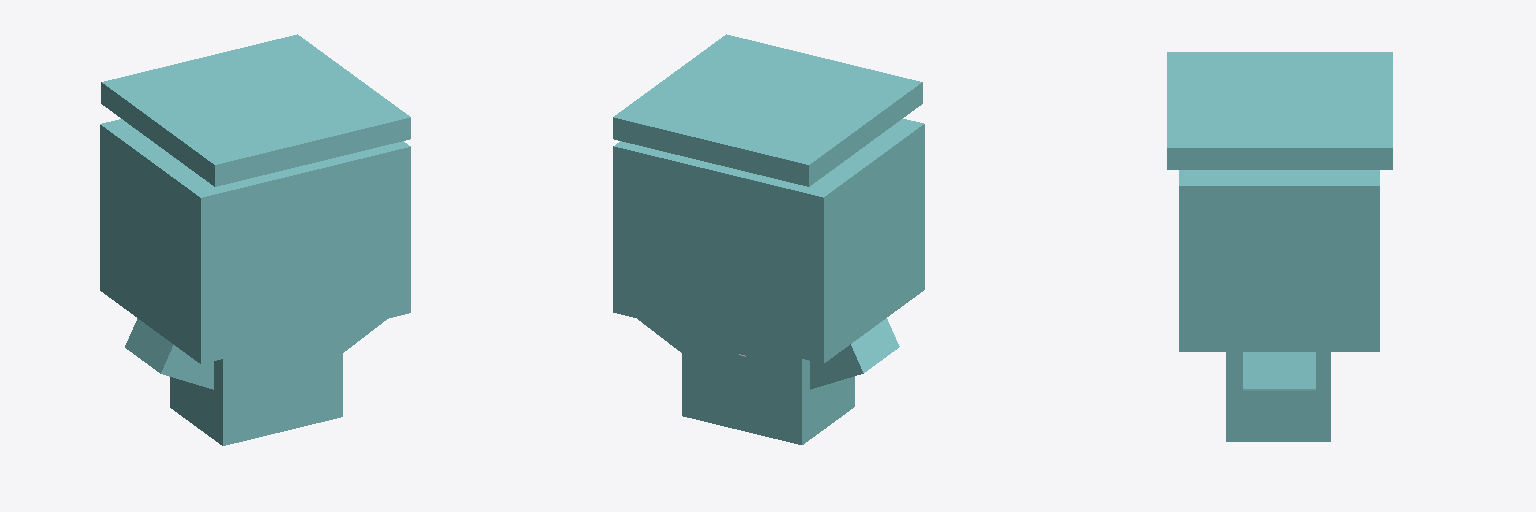
3 views of the same model, side by side, from view 1: azimuth 30°, elevation 25°; view 2: azimuth 150°, elevation 25°; view 3: azimuth 270°, elevation 25° (orthographic).
Visible parts, largest first — view 1: UCX_4, UCX_5, UCX_1, UCX_2, UCX_3; view 2: UCX_4, UCX_5, UCX_1, UCX_2, UCX_3; view 3: UCX_4, UCX_5, UCX_1, UCX_3.
Part boxes in pixels (x1,y1,x2,y2): UCX_4: (100,119,410,363); UCX_5: (101,34,410,186); UCX_1: (170,330,342,445); UCX_2: (125,318,213,389); UCX_3: (343,319,386,352); UCX_4: (613,119,924,363); UCX_5: (613,34,922,186); UCX_1: (682,330,854,444); UCX_2: (810,318,899,389); UCX_3: (638,319,681,352); UCX_4: (1179,170,1379,351); UCX_5: (1167,52,1392,169); UCX_1: (1226,352,1330,441); UCX_3: (1243,352,1315,390).
Bounding box in the file's own units: 30.05 × 39.49 × 25.99.
2 materials, 2 textured.